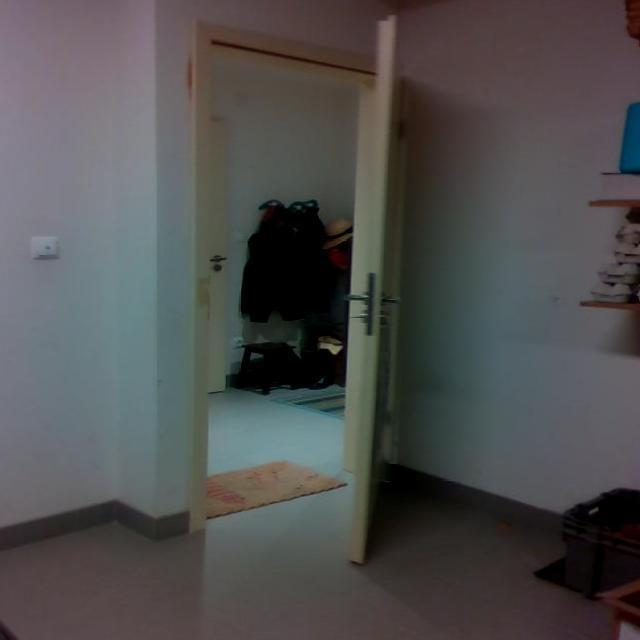door: (324, 16, 426, 560)
